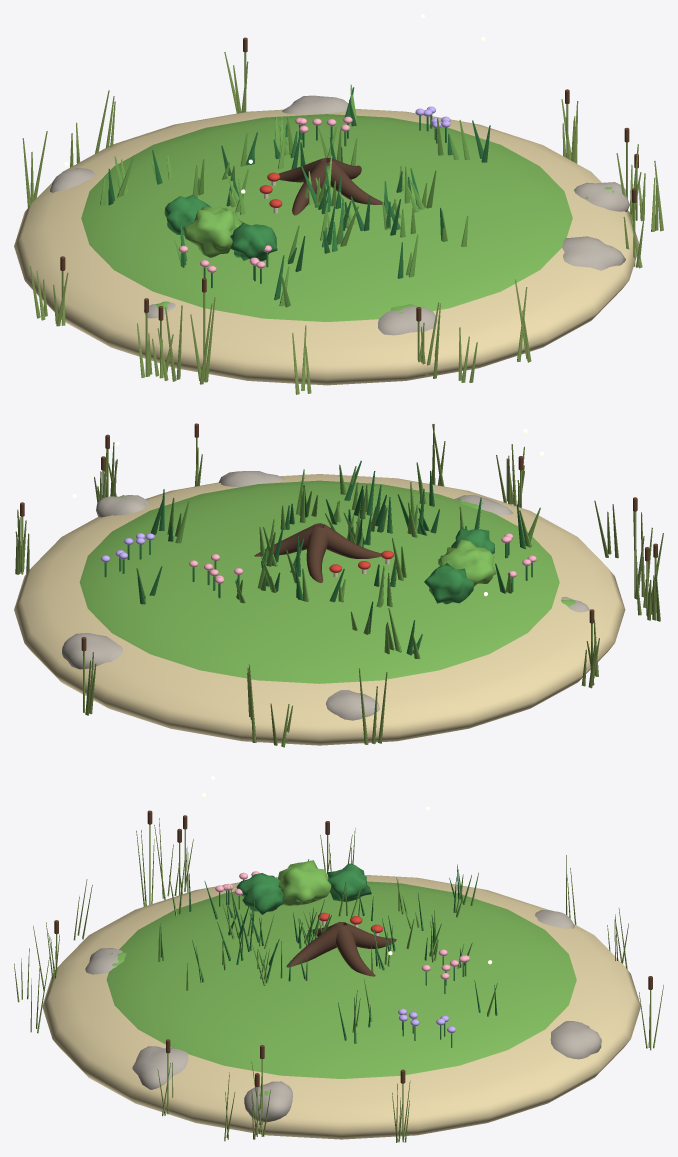
Rendered from islet_12.glb.
The picture shows the model from 3 angles, top to bottom: view 1: azimuth 30°, elevation 25°; view 2: azimuth 150°, elevation 25°; view 3: azimuth 270°, elevation 25°; orthographic projection. The views are drawn at different scales.
Visible parts, largest first — view 1: islet_grass.012, islet_sand.012, bush.037, rock.077, bush.038, rock.074, rock.072, bush.036, rock.075, root.051, root.050, rock.073; view 2: islet_grass.012, islet_sand.012, bush.037, rock.075, bush.036, rock.073, rock.072, root.049, root.050, rock.077, bush.038, root.048 (+1 smaller); view 3: islet_grass.012, islet_sand.012, bush.037, rock.077, rock.075, rock.072, bush.038, bush.036, root.048, root.051, rock.074, root.049.
Boxes of the visible parts, bbox=[...] form: islet_grass.012: bbox=[81, 114, 572, 321]; islet_sand.012: bbox=[14, 109, 639, 385]; bush.037: bbox=[182, 206, 243, 257]; rock.077: bbox=[562, 236, 625, 270]; bush.038: bbox=[230, 223, 277, 261]; rock.074: bbox=[378, 306, 437, 335]; rock.072: bbox=[574, 182, 629, 211]; bush.036: bbox=[164, 194, 211, 234]; rock.075: bbox=[282, 95, 348, 114]; root.051: bbox=[326, 160, 384, 204]; root.050: bbox=[292, 161, 329, 215]; rock.073: bbox=[50, 168, 95, 192]; islet_grass.012: bbox=[79, 480, 559, 683]; islet_sand.012: bbox=[14, 474, 625, 745]; bush.037: bbox=[438, 539, 496, 587]; rock.075: bbox=[62, 633, 122, 669]; bush.036: bbox=[424, 563, 473, 604]; rock.073: bbox=[326, 690, 379, 720]; rock.072: bbox=[96, 495, 149, 517]; root.049: bbox=[306, 527, 327, 582]; root.050: bbox=[323, 524, 381, 558]; rock.077: bbox=[218, 471, 284, 486]; bush.038: bbox=[451, 527, 494, 554]; root.048: bbox=[254, 524, 316, 556]; islet_grass.012: bbox=[106, 881, 576, 1078]; islet_sand.012: bbox=[42, 874, 640, 1139]; bush.037: bbox=[278, 860, 331, 905]; rock.077: bbox=[132, 1046, 188, 1089]; rock.075: bbox=[550, 1021, 601, 1059]; rock.072: bbox=[244, 1081, 292, 1122]; bush.038: bbox=[236, 873, 283, 914]; bush.036: bbox=[327, 863, 371, 901]; root.048: bbox=[335, 925, 375, 976]; root.051: bbox=[286, 923, 340, 967]; rock.074: bbox=[85, 948, 122, 974]; root.049: bbox=[343, 922, 396, 948].
Bounding box in the file's own units: 9.05 × 3.28 × 9.33.
